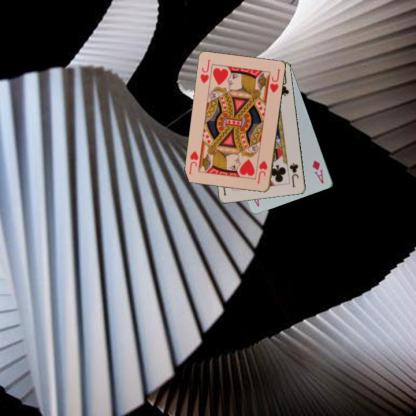Ad: (310, 158, 325, 185)
Jc: (287, 161, 300, 188)
Jh: (254, 158, 269, 185), (198, 57, 212, 85)
